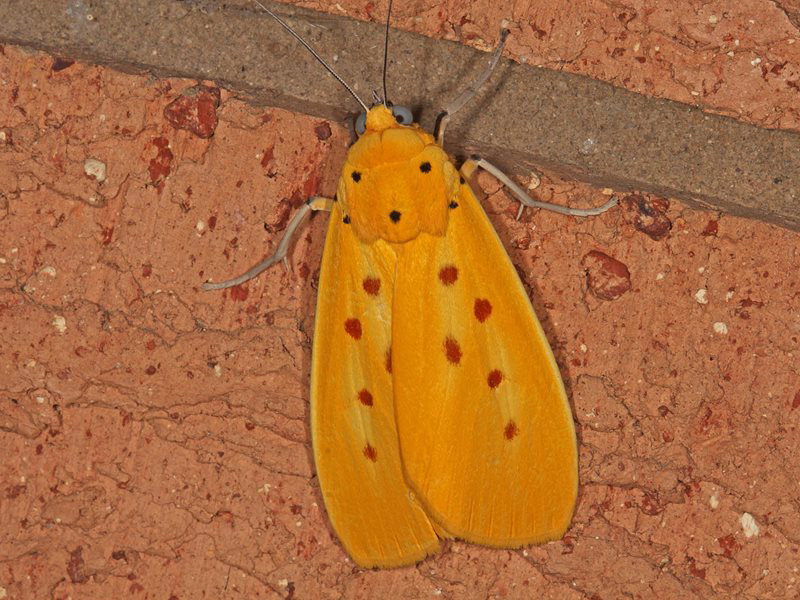Agape chloropyga: (209, 1, 638, 579)
moth: (211, 1, 640, 579)
